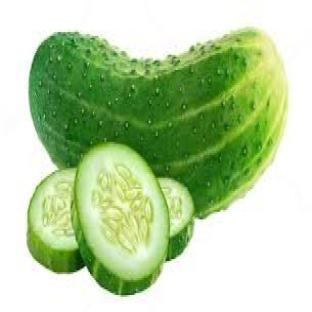Cucumber: (29, 29, 287, 217), (72, 144, 169, 294), (27, 169, 83, 272), (159, 178, 194, 260)
